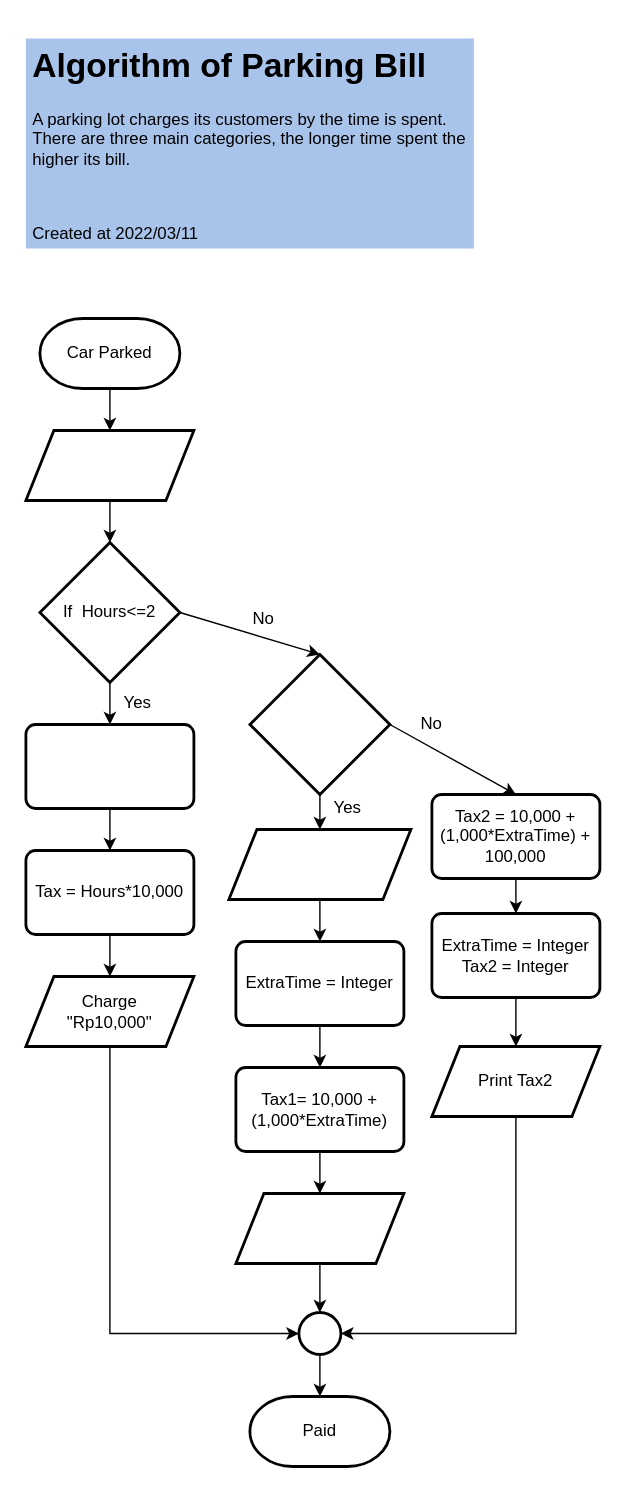
The diagram is 624 pixels wide and 1491 high, and some of its shapes have lost their labels. The shapes that lost their labels are listed below. From the top down, each one's centre as x and y in pixels, then its label:
(109,464): Print "Hours" Input Hours
(319,723): If Hours>2 && <24
(109,765): Hours = Integer
(319,863): Input ExtraTime
(319,1227): Print Tax1
